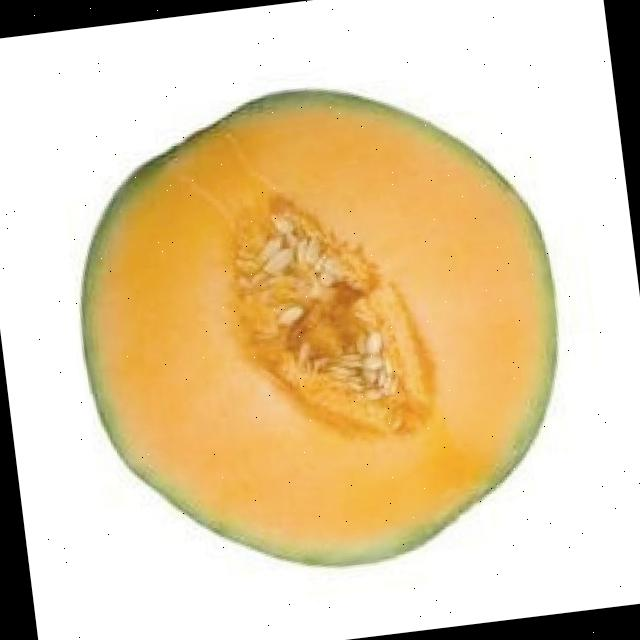Hami Melon: (55, 65, 581, 596)
